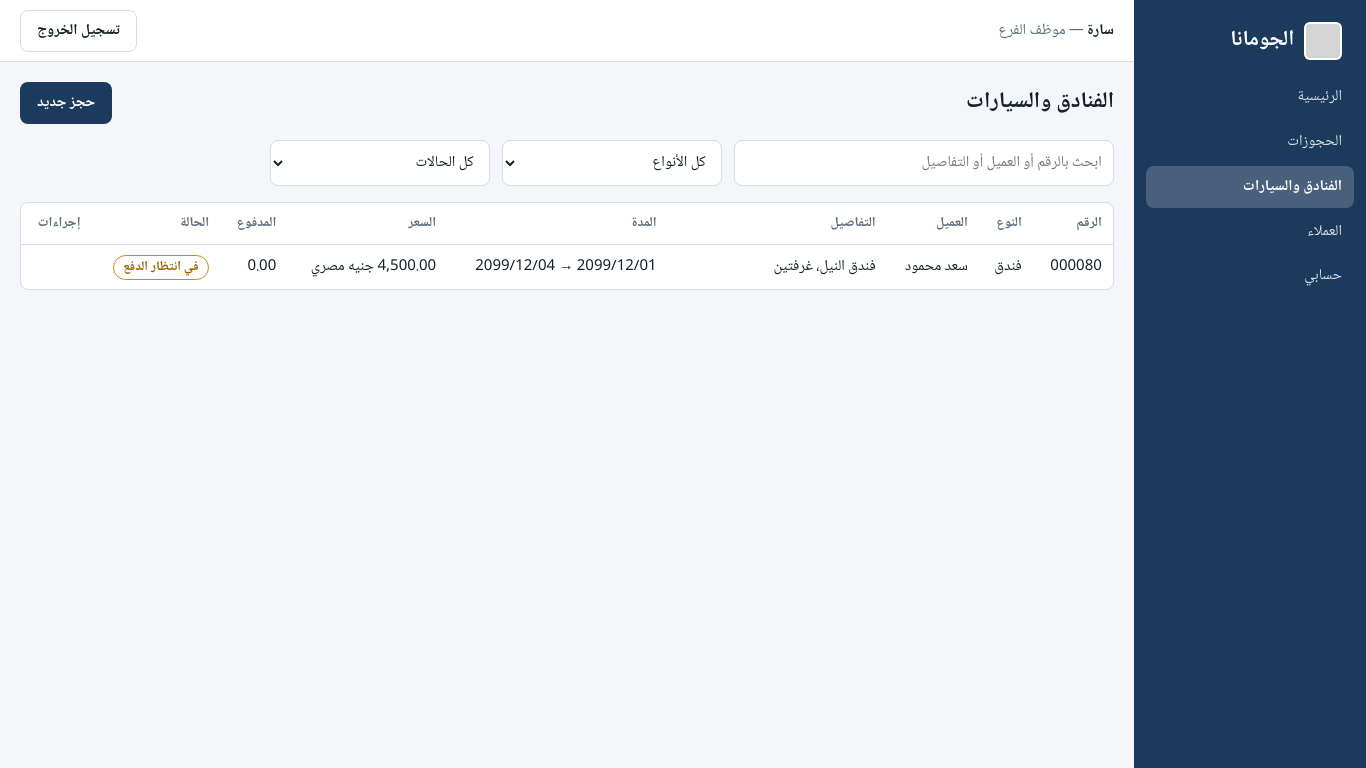
it: hotel and car bookings › lets an office book on account without choosing a treasury, and never collect
Check: the text "فندق النيل، غرفتين" is shown, box 774,254 -> 876,280
Click the button "حجز جديد" at [66, 103], box 20,82 -> 112,124
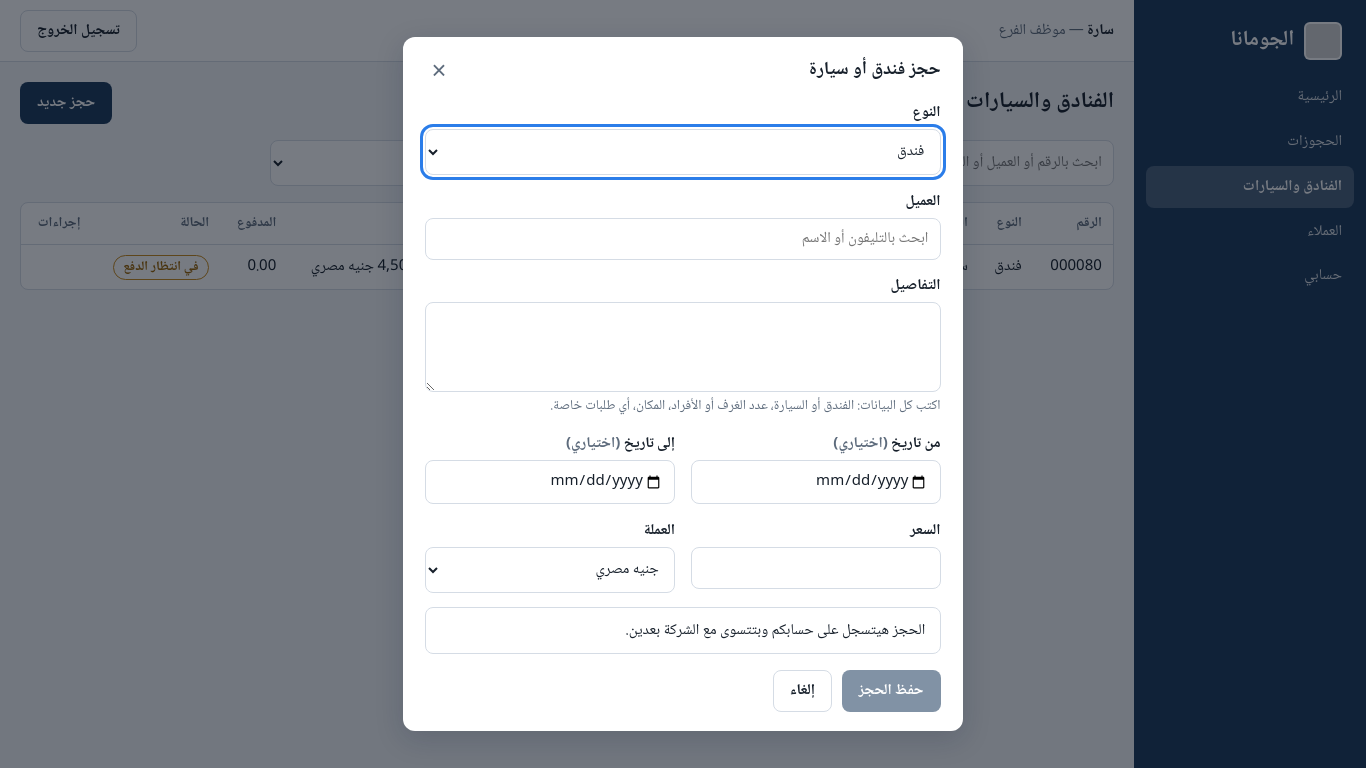
Check: the text "الحجز هيتسجل على حسابكم وبتتسوى مع الشركة بعدين." is shown, box 425,607 -> 941,654
